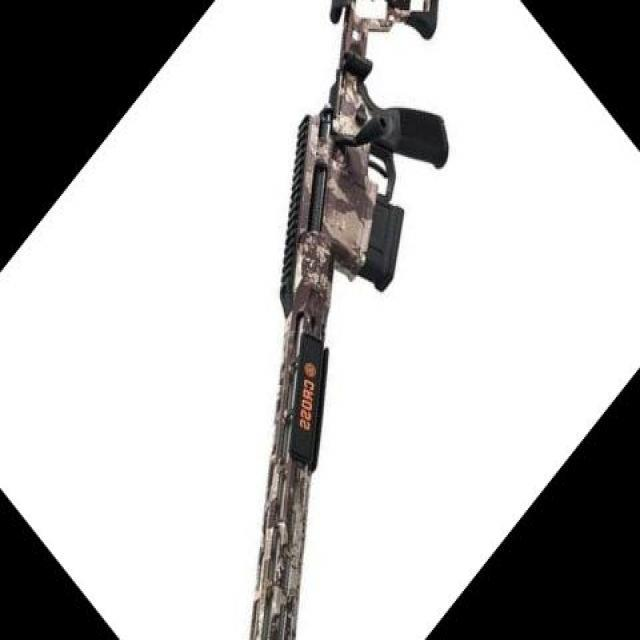weapon: (248, 0, 448, 640)
